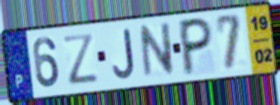6: (31, 36, 61, 90)
7: (215, 12, 246, 74)
J: (111, 27, 137, 82)
N: (138, 21, 176, 82)
P: (179, 16, 214, 79)
Z: (60, 31, 100, 87)
